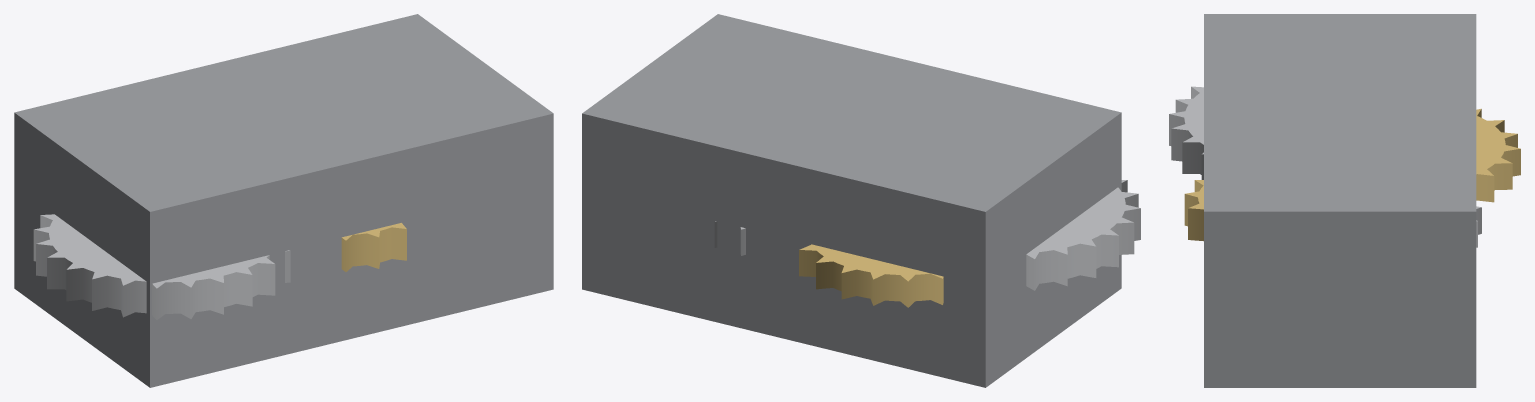
Rendered from gearbox.glb.
The picture shows the model from 3 angles, left to right: view 1: azimuth 30°, elevation 25°; view 2: azimuth 150°, elevation 25°; view 3: azimuth 270°, elevation 25°; orthographic projection.
Parts seen in each view (by area): view 1: Housing, DriveGear, IntermediateGear; view 2: Housing, DriveGear, LayerTwoGearA; view 3: Housing, LayerTwoGearA, DriveGear, IntermediateGear.
Boxes of the visible parts, bbox=[...] form: Housing: bbox=[14, 14, 553, 387]; DriveGear: bbox=[33, 214, 290, 319]; IntermediateGear: bbox=[341, 222, 406, 271]; Housing: bbox=[582, 14, 1121, 387]; DriveGear: bbox=[1026, 180, 1140, 290]; LayerTwoGearA: bbox=[799, 244, 943, 307]; Housing: bbox=[1204, 14, 1476, 387]; LayerTwoGearA: bbox=[1476, 108, 1520, 202]; DriveGear: bbox=[1169, 86, 1203, 179]; IntermediateGear: bbox=[1184, 180, 1203, 241].
Size of the model in its own units: 2.7 by 1 by 1.81.
